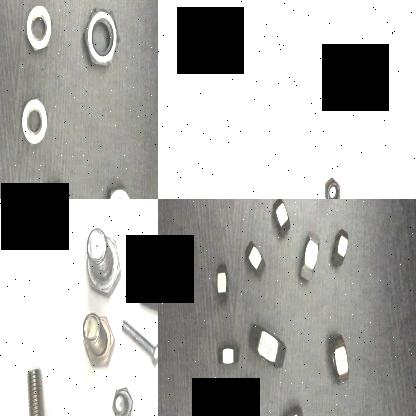Bolts: (79, 221, 131, 297), (14, 357, 56, 416), (78, 309, 116, 373), (119, 316, 158, 366), (106, 374, 136, 416), (137, 273, 158, 331)
NUTS: (18, 84, 49, 150), (20, 0, 54, 59), (324, 336, 356, 390), (294, 233, 320, 292), (233, 376, 260, 416), (325, 229, 350, 271), (104, 171, 140, 199), (37, 181, 72, 199), (322, 175, 343, 199), (277, 403, 310, 416)
